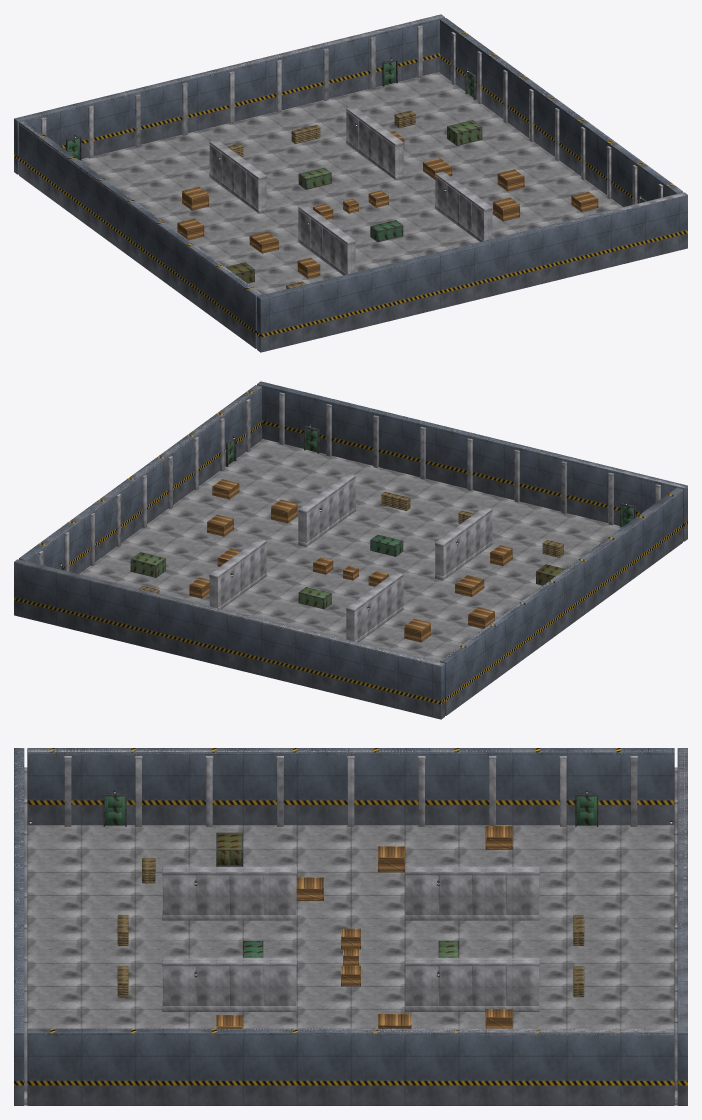
Rendered from map.glb.
3 renders of one model, top to bottom at view 1: azimuth 30°, elevation 25°; view 2: azimuth 150°, elevation 25°; view 3: azimuth 270°, elevation 25°, orthographic. The views are drawn at different scales.
Visible parts, largest first — view 1: map; view 2: map; view 3: map.
Boxes of the visible parts, x1,y1,x2,y2 form: map: (14, 14, 687, 352); map: (14, 381, 687, 719); map: (14, 748, 687, 1105).
Size of the model in its own units: 50 by 6.2 by 50.
Materials: 10 (9 with a texture image).
